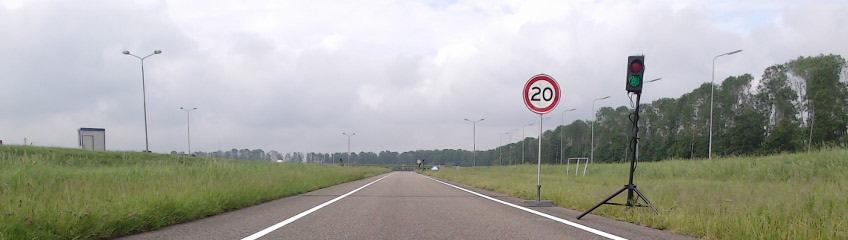Speed-limit-20km-h-: (523, 74, 562, 114)
TrafficLight-green: (626, 56, 644, 93)
